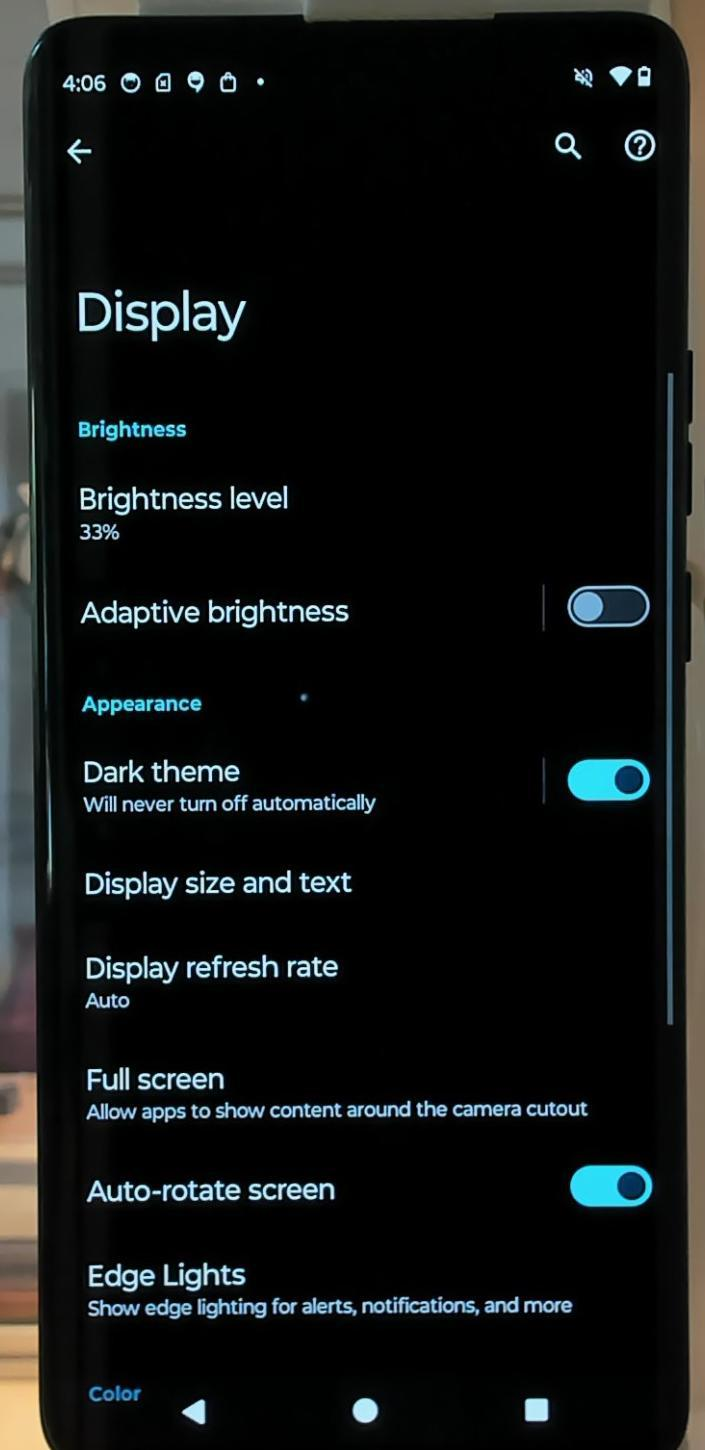Checkbox: (65, 1150, 663, 1228), (65, 578, 657, 650), (65, 743, 652, 806)
